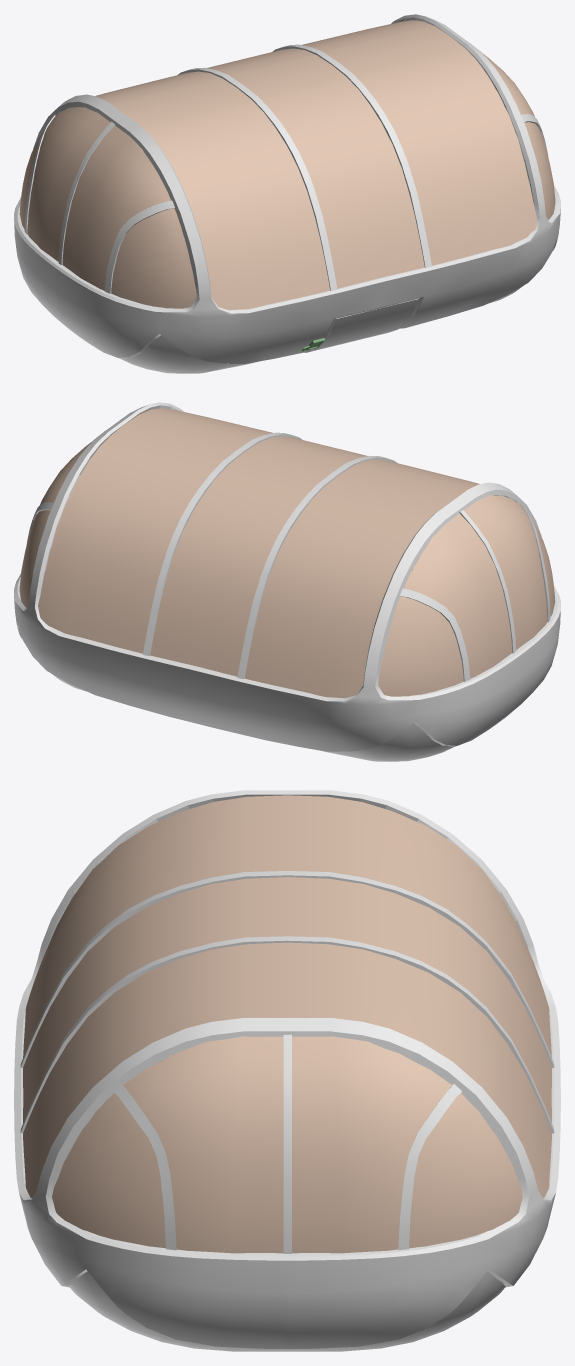
File: S_Serre.fbx
The picture shows the model from 3 angles, top to bottom: view 1: azimuth 30°, elevation 25°; view 2: azimuth 150°, elevation 25°; view 3: azimuth 270°, elevation 25°; orthographic projection. The views are drawn at different scales.
Visible parts, largest first — view 1: Serre; view 2: Serre; view 3: Serre.
Part boxes in pixels (bbox=[...]): Serre: bbox=[14, 14, 560, 373]; Serre: bbox=[14, 402, 560, 761]; Serre: bbox=[14, 790, 560, 1351].
Size of what is drawn, in the model's own units: 1724 by 851 by 1240.
